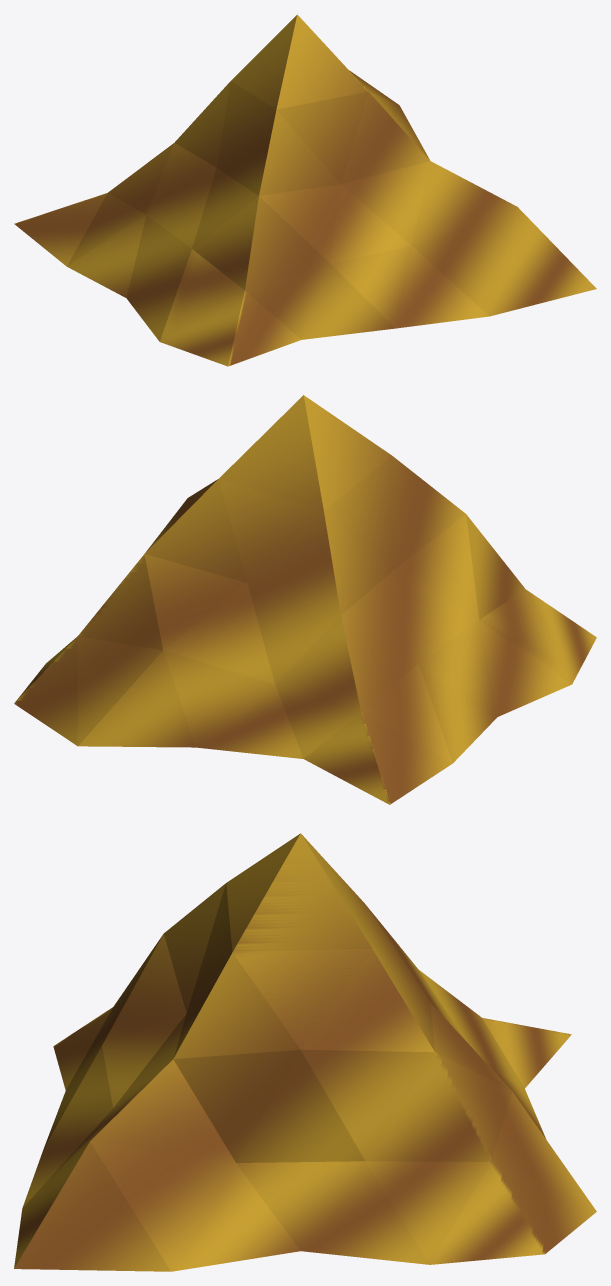
File: pyramide.fbx
3 views of the same model, one above another, from view 1: azimuth 30°, elevation 25°; view 2: azimuth 150°, elevation 25°; view 3: azimuth 270°, elevation 25° (orthographic). The views are drawn at different scales.
Parts seen in each view (by area): view 1: Pyramide_1; view 2: Pyramide_1; view 3: Pyramide_1.
Boxes of the visible parts, <box> form: Pyramide_1: <box>14,14,596,366</box>; Pyramide_1: <box>14,395,596,804</box>; Pyramide_1: <box>14,833,596,1271</box>.
Bounding box in the file's own units: 2200 × 1429 × 2252.
